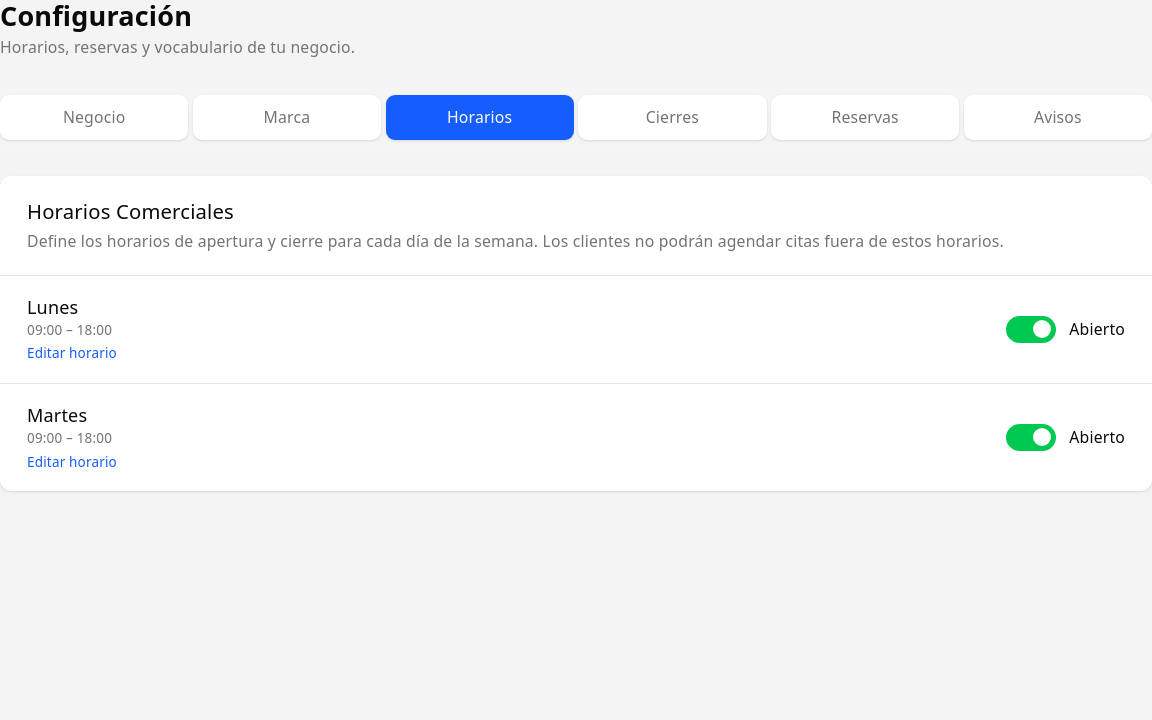
Test case: Configuración por fichas › cada día de Horarios se muestra resumido y se despliega para editarlo
Expected: the text "09:00 – 18:00" is shown 2 times, x1=27 y1=320 x2=112 y2=338; x1=27 y1=429 x2=112 y2=447
Click the button "Editar horario" below "Lunes" at coordinates (72, 354), box x1=27 y1=344 x2=117 y2=362
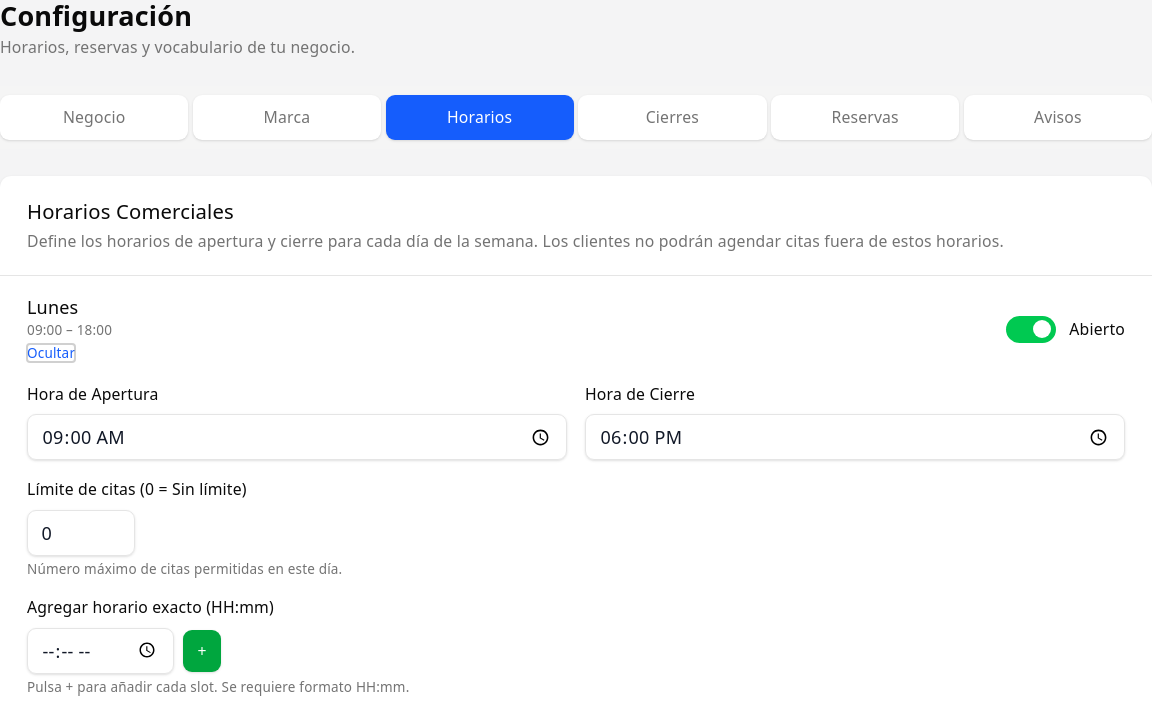
Expected: the text "Hora de Apertura" is shown once, x1=27 y1=383 x2=158 y2=405
Click the button "Ocultar" at coordinates (51, 354), box x1=27 y1=344 x2=75 y2=362
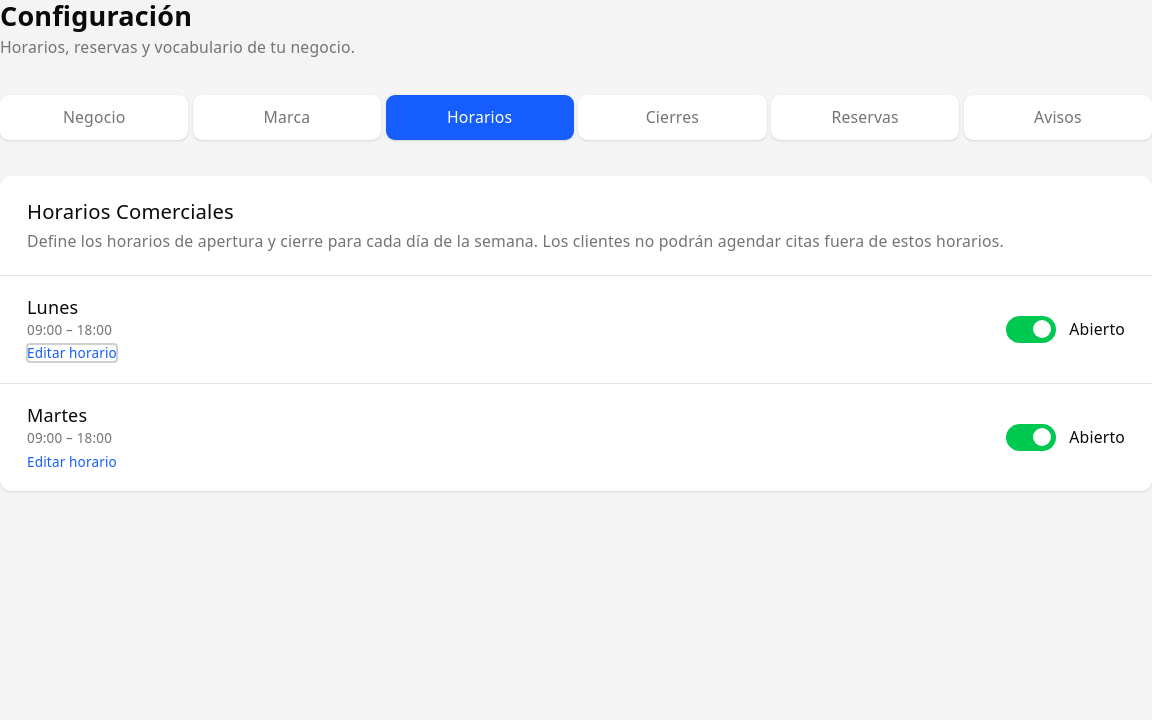
Expected: the text "Hora de Apertura" is not shown
